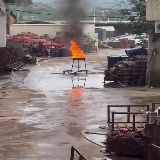fire: (69, 39, 84, 58)
